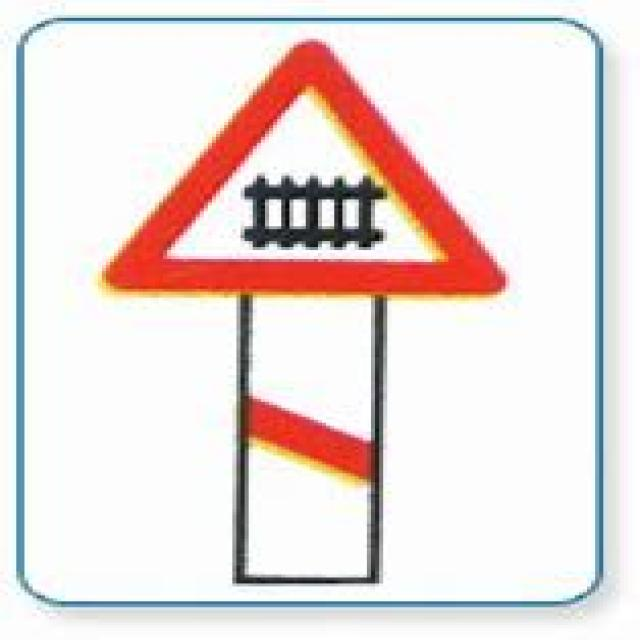GUARDED_LEVEL_CROSSING: (102, 39, 512, 587)
